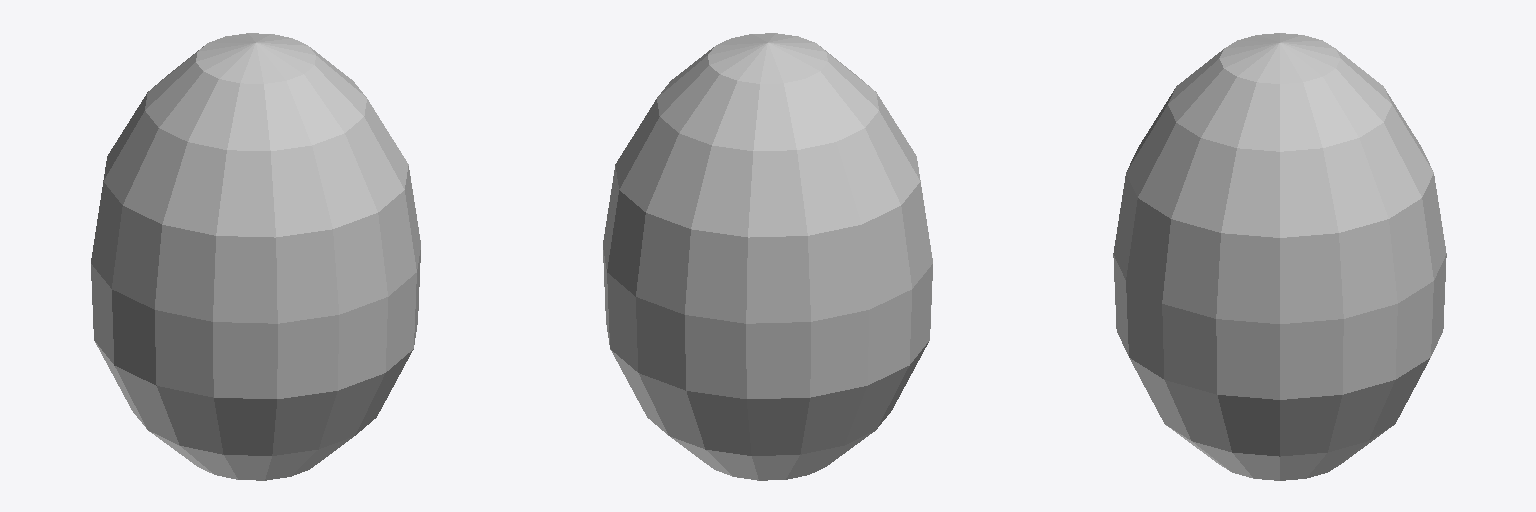
Rendered from egg_basic_easter.sgm.obj.
The picture shows the model from 3 angles: view 1: azimuth 30°, elevation 25°; view 2: azimuth 150°, elevation 25°; view 3: azimuth 270°, elevation 25°; orthographic projection.
Bounding box in the file's own units: 0.3574 × 0.5049 × 0.3574.